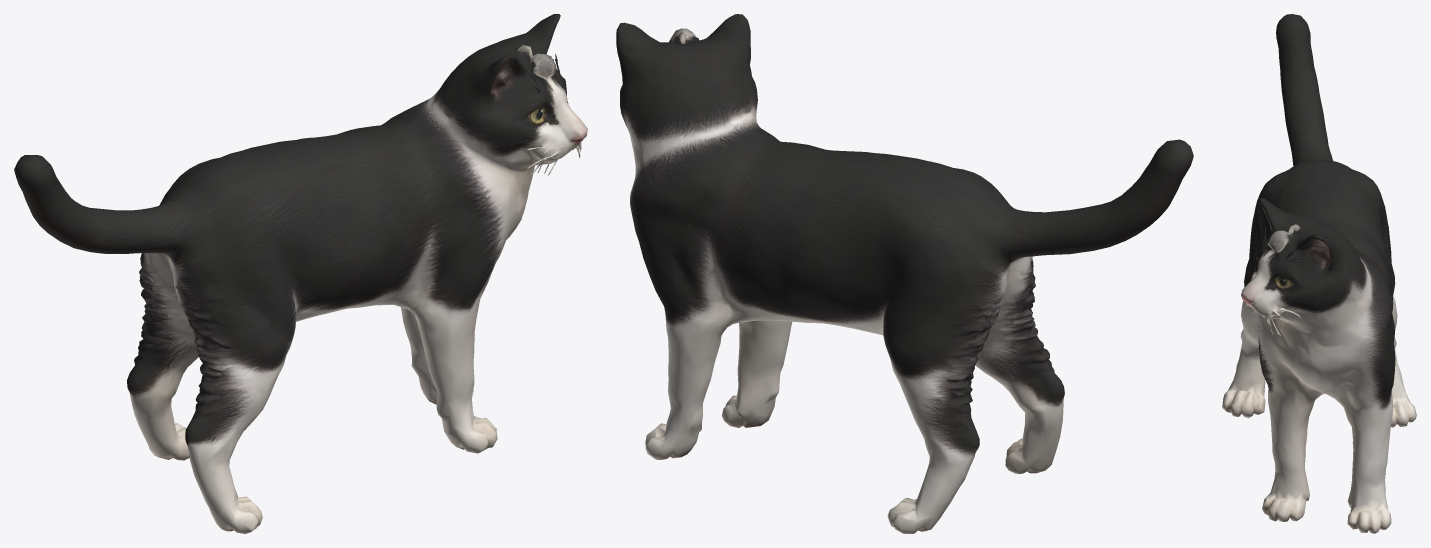
The model's file is FELICETCAT.glb.
3 views of the same model, side by side, from view 1: azimuth 30°, elevation 25°; view 2: azimuth 150°, elevation 25°; view 3: azimuth 270°, elevation 25° (orthographic). The views are drawn at different scales.
Parts seen in each view (by area): view 1: tripo_node_b9653e60-48c0-4680-bd69-eebdf6450e08; view 2: tripo_node_b9653e60-48c0-4680-bd69-eebdf6450e08; view 3: tripo_node_b9653e60-48c0-4680-bd69-eebdf6450e08.
Part boxes in pixels (x1,y1,x2,y2): tripo_node_b9653e60-48c0-4680-bd69-eebdf6450e08: (14, 14, 587, 533); tripo_node_b9653e60-48c0-4680-bd69-eebdf6450e08: (616, 14, 1193, 533); tripo_node_b9653e60-48c0-4680-bd69-eebdf6450e08: (1222, 14, 1416, 533).
Bounding box in the file's own units: 1.48 × 1 × 0.5378.
Materials: 1 (1 with a texture image).
